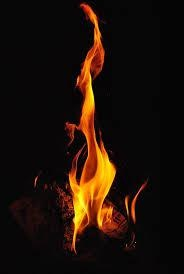fire: (65, 2, 116, 185)
